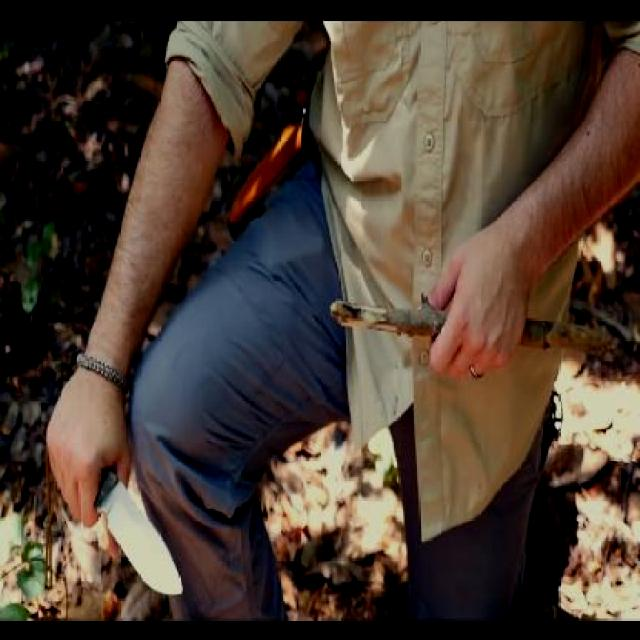knife: (51, 428, 186, 604)
